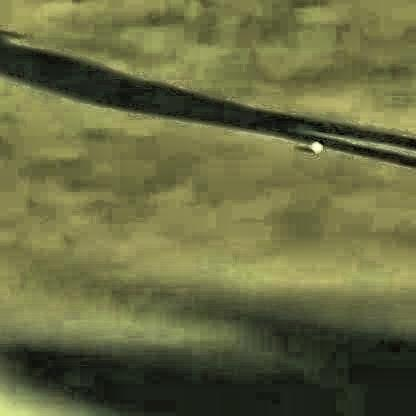golfball: (307, 136, 320, 152)
